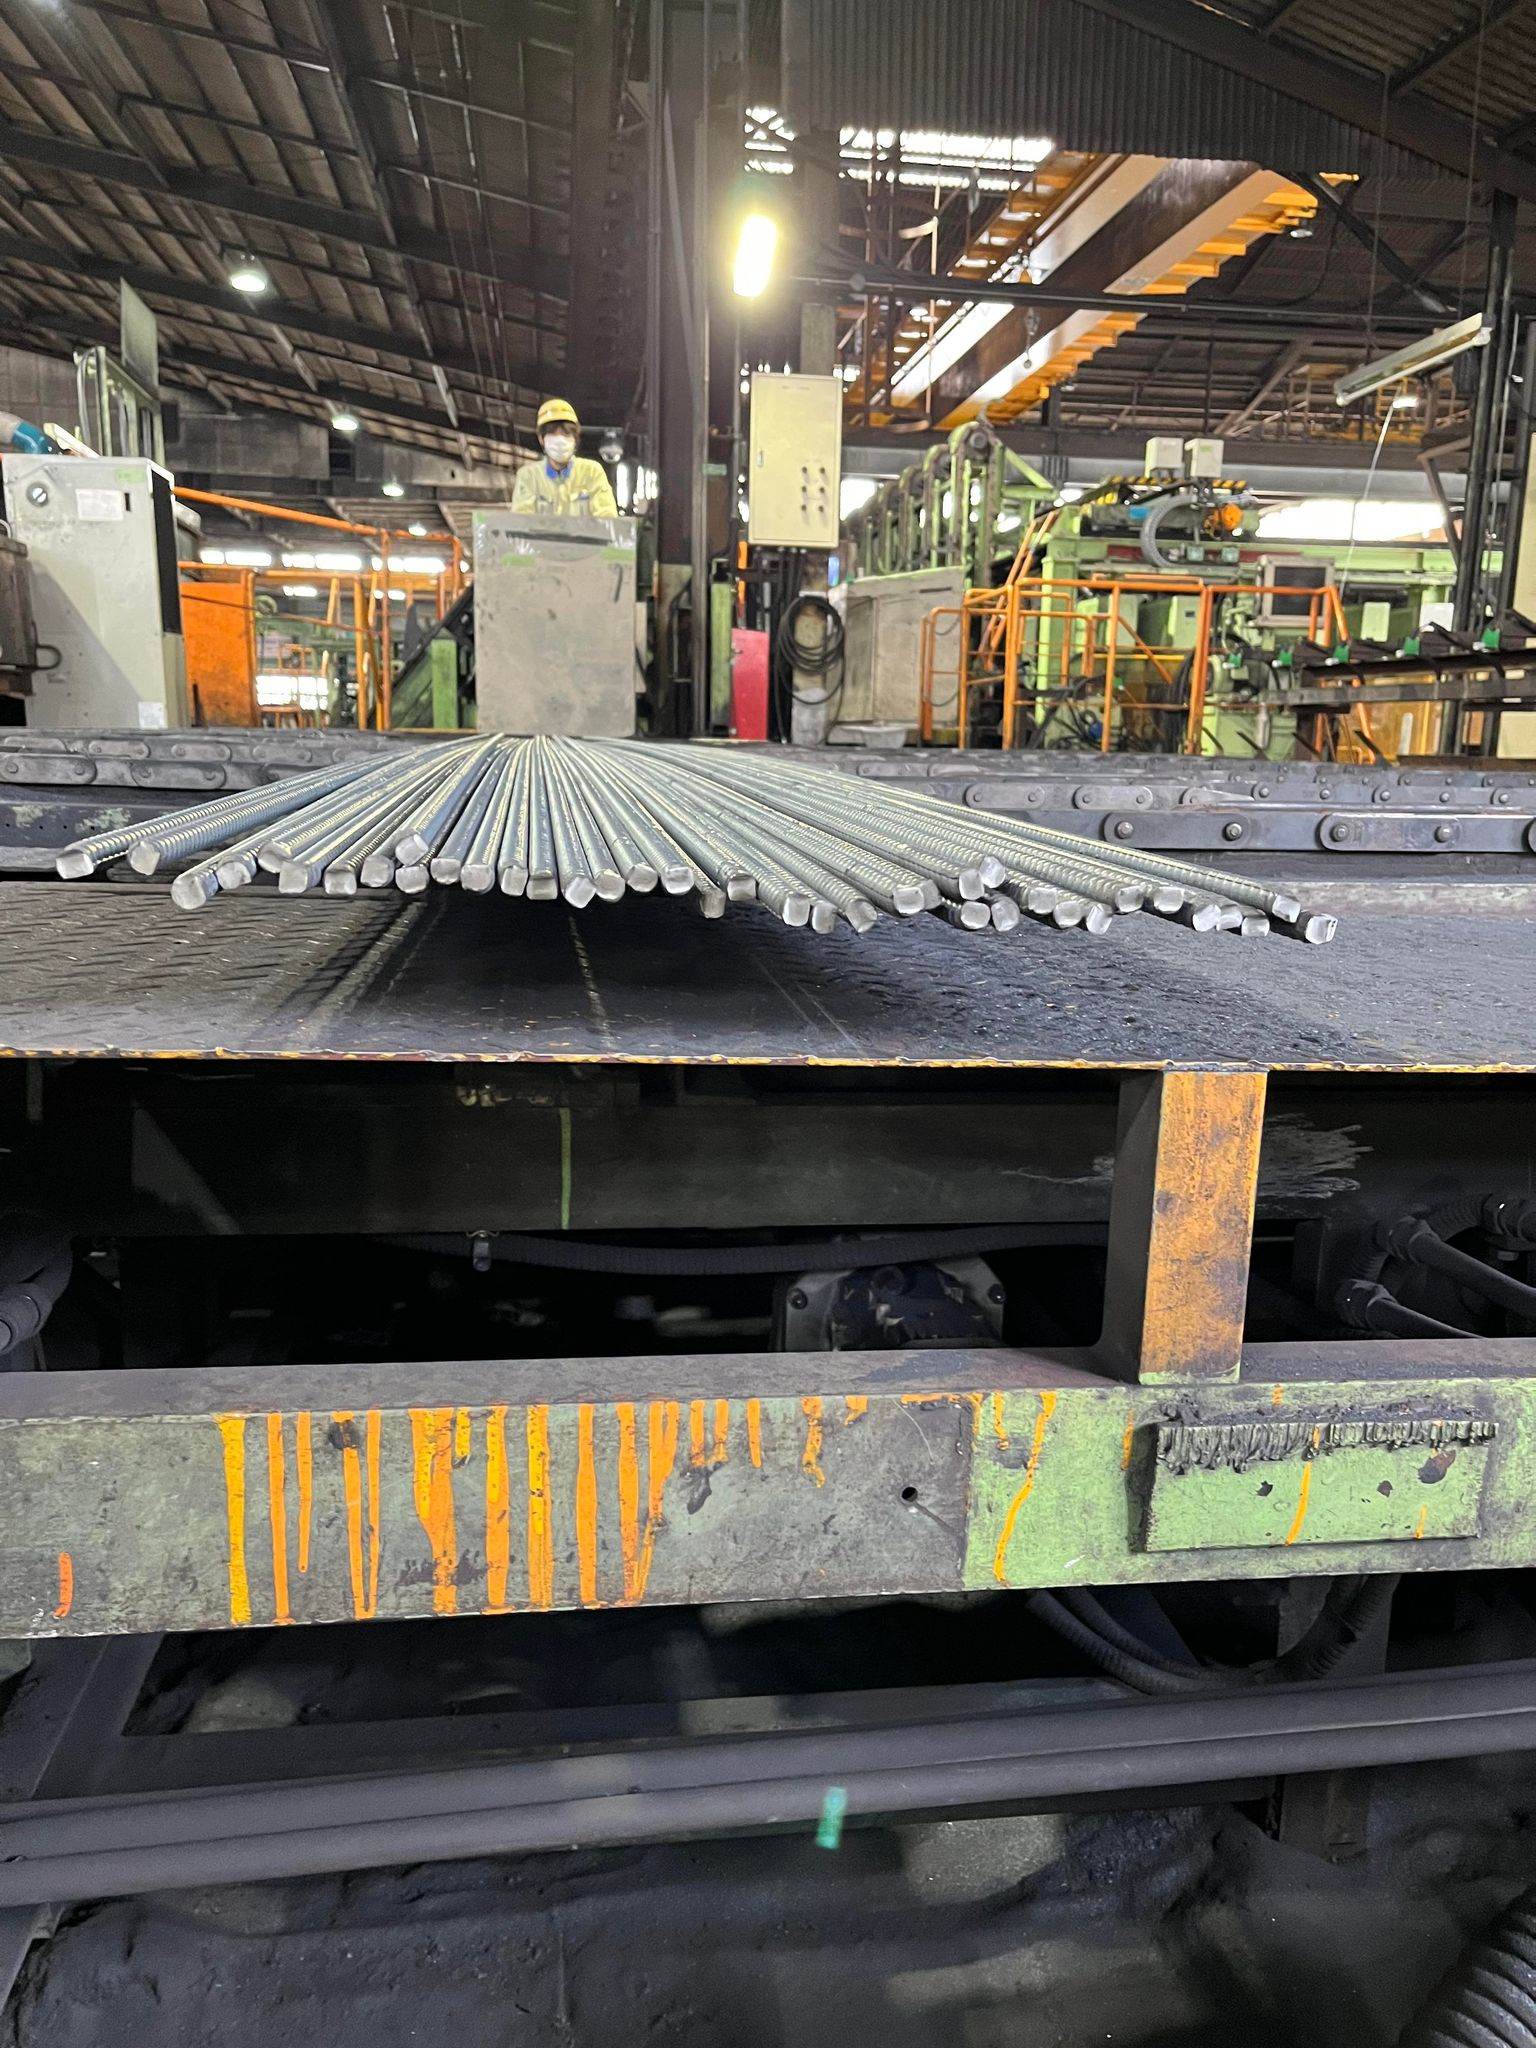rod: (169, 872, 210, 911), (53, 847, 97, 880), (124, 839, 161, 876), (560, 872, 599, 908), (360, 851, 395, 889), (844, 898, 878, 935), (392, 832, 431, 864), (1302, 913, 1341, 945), (213, 860, 253, 890), (278, 860, 311, 893), (660, 863, 694, 897), (892, 885, 926, 919), (257, 840, 292, 872), (323, 864, 358, 897), (458, 863, 495, 893), (1150, 884, 1187, 914), (1270, 890, 1304, 922), (991, 898, 1021, 934), (394, 864, 431, 893), (726, 872, 758, 905), (1189, 901, 1221, 934), (524, 871, 558, 901), (781, 893, 812, 927), (810, 901, 841, 935), (1084, 901, 1115, 935), (429, 855, 461, 885), (595, 871, 626, 903), (958, 900, 991, 930), (1026, 884, 1058, 914), (1050, 898, 1083, 929), (957, 866, 984, 901), (1117, 884, 1147, 914), (626, 864, 658, 893), (700, 885, 728, 919), (979, 855, 1007, 889), (500, 864, 528, 897), (1241, 913, 1270, 940), (920, 879, 944, 911), (1221, 900, 1242, 932)
